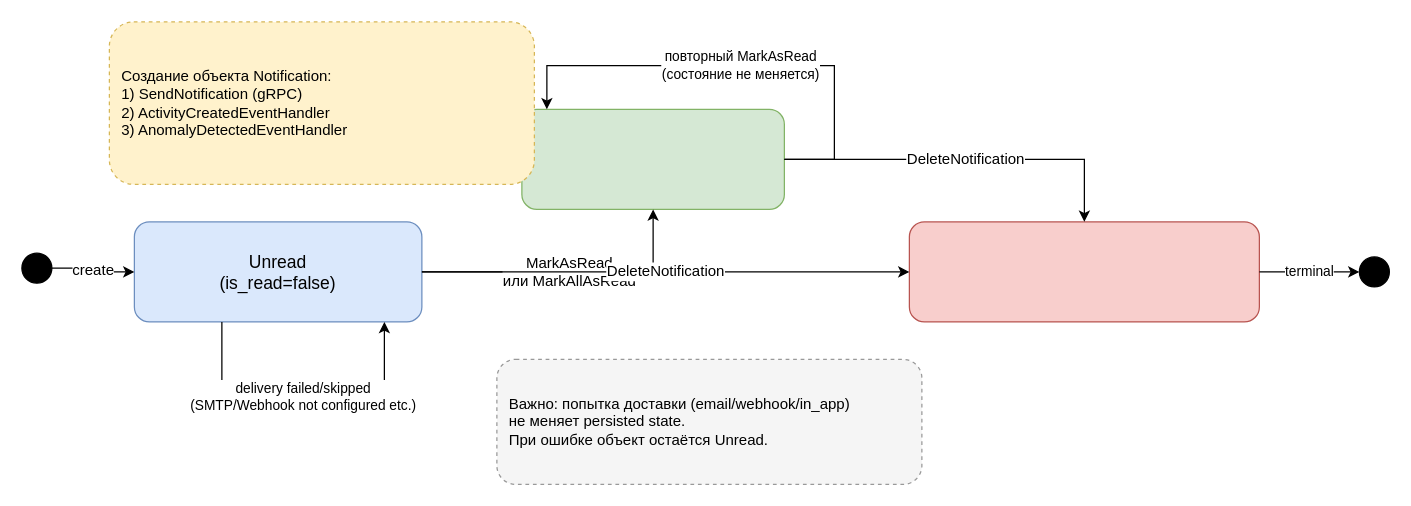
Some shapes in this 1411 by 506 pixel diagram are drawn without their labels. Each missing label, with the box of its shape:
Deleted (row removed from notifications): (908, 221, 1259, 322)
Read (is_read=true): (521, 108, 784, 209)
